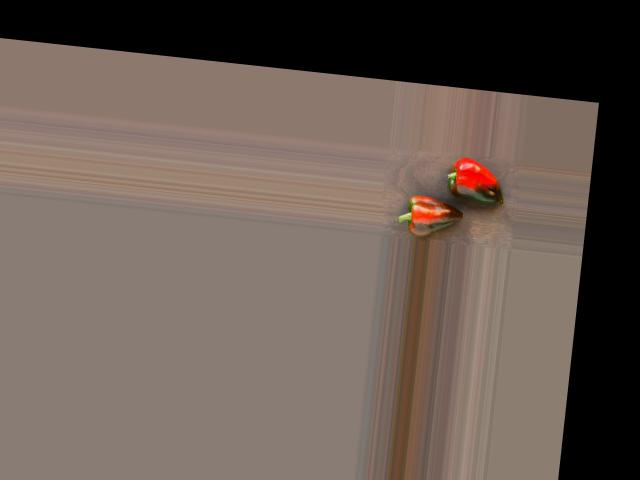bell_pepper: (424, 152, 511, 208)
